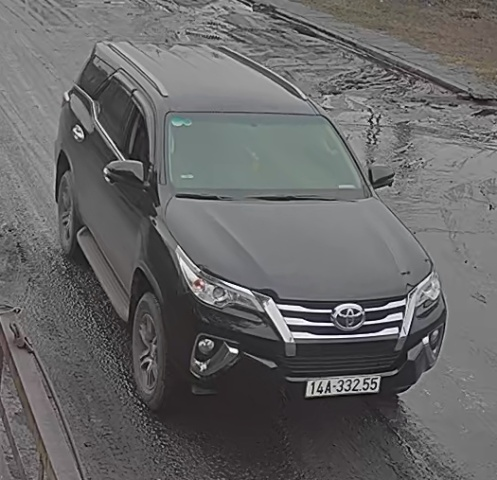vehicle plate: (302, 372, 387, 399)
